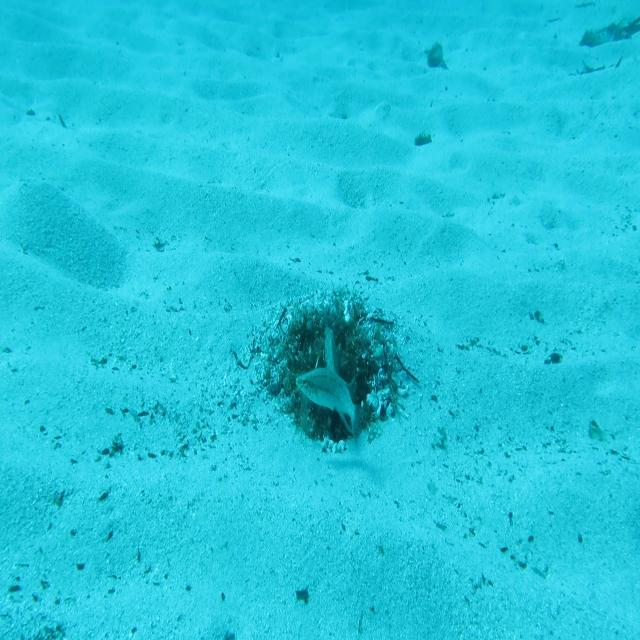FAN: (323, 325, 353, 436)
core_nest: (308, 314, 352, 348)
female: (294, 367, 368, 443)
nest: (256, 284, 410, 462)
vegetation: (580, 12, 640, 48), (424, 39, 449, 70), (414, 128, 434, 148)
